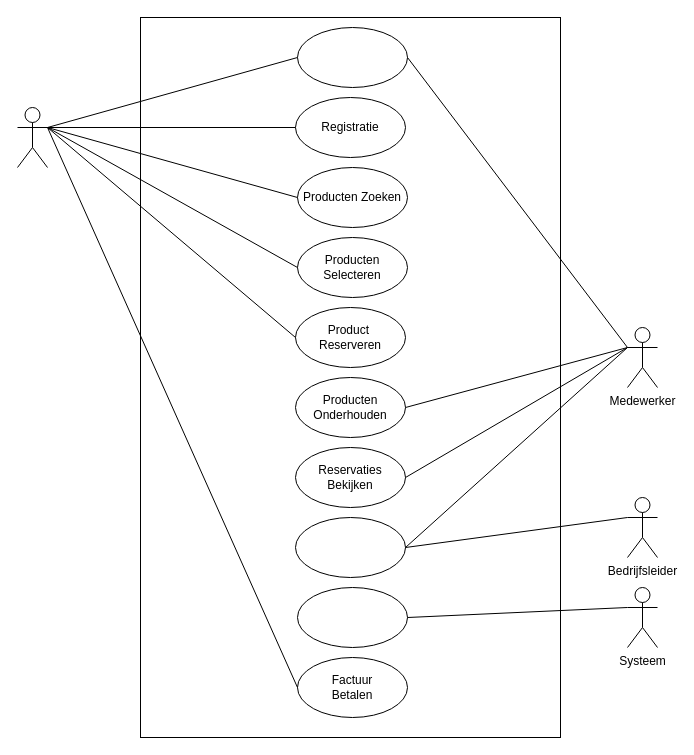
This 694x755 diagram has some shape labels left out. The shapes that lost their labels are listed below. From the top down, each one's centre as x and y in pixels, then its label:
At (x=352, y=57): "Login".
At (x=32, y=137): "Klant".
At (x=350, y=547): "Facturen Bekijken".
At (x=352, y=617): "Factuur Genereren".
